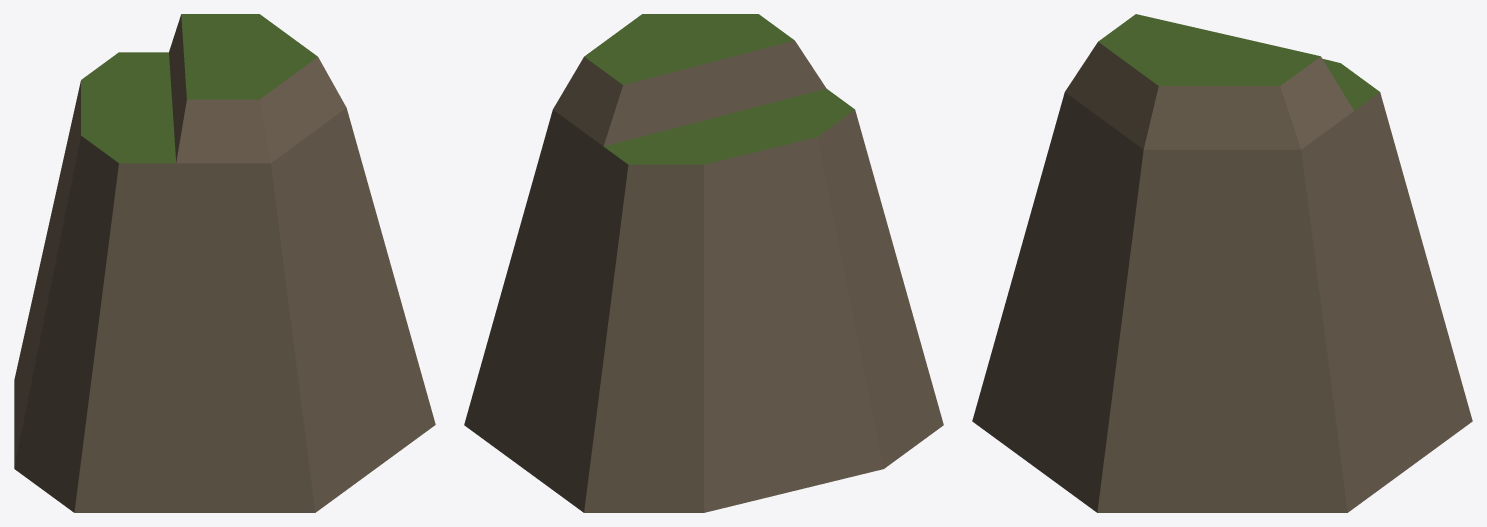
Rendered from rock_tall_e.glb.
The picture shows the model from 3 angles, left to right: view 1: azimuth 30°, elevation 25°; view 2: azimuth 150°, elevation 25°; view 3: azimuth 270°, elevation 25°; orthographic projection. The views are drawn at different scales.
Visible parts, largest first — view 1: rock_tallE; view 2: rock_tallE; view 3: rock_tallE.
Boxes of the visible parts, x1,y1,x2,y2 form: rock_tallE: (14, 14, 435, 512); rock_tallE: (464, 14, 943, 512); rock_tallE: (972, 14, 1472, 512).
Bounding box in the file's own units: 0.4562 × 0.4438 × 0.5268.
